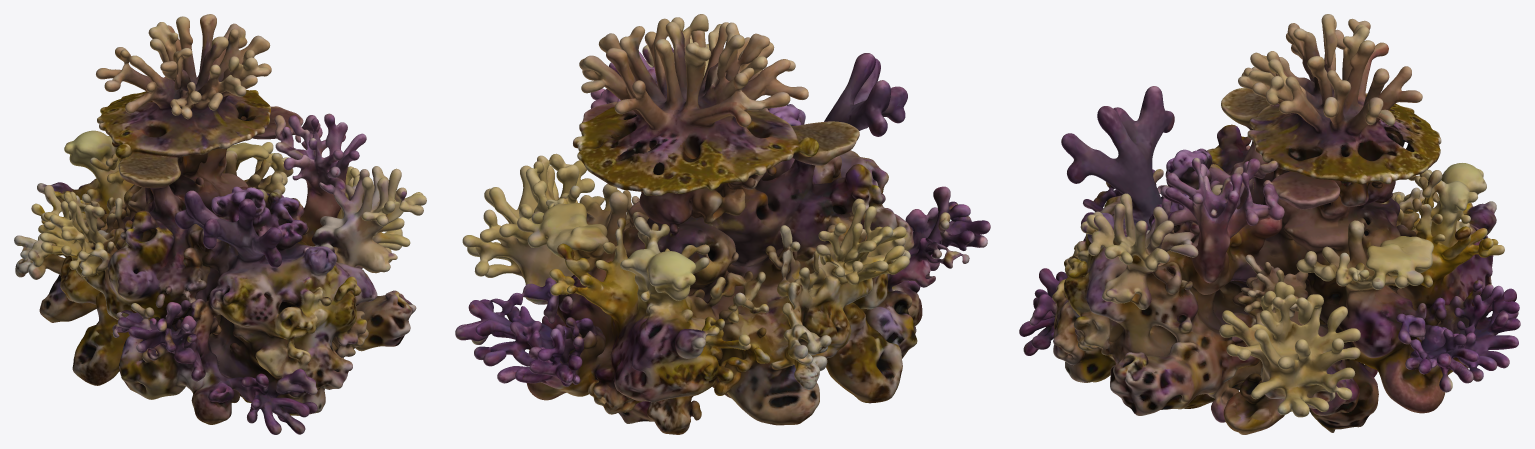
The model's file is reefmass_c.glb.
3 views of the same model, side by side, from view 1: azimuth 30°, elevation 25°; view 2: azimuth 150°, elevation 25°; view 3: azimuth 270°, elevation 25° (orthographic). The views are drawn at different scales.
Parts seen in each view (by area): view 1: tripo_node_705ec478-6d67-4635-8ecd-a9367209145a; view 2: tripo_node_705ec478-6d67-4635-8ecd-a9367209145a; view 3: tripo_node_705ec478-6d67-4635-8ecd-a9367209145a.
Part boxes in pixels (x1,y1,x2,y2): tripo_node_705ec478-6d67-4635-8ecd-a9367209145a: (14, 14, 426, 434); tripo_node_705ec478-6d67-4635-8ecd-a9367209145a: (455, 14, 990, 434); tripo_node_705ec478-6d67-4635-8ecd-a9367209145a: (1019, 14, 1520, 434).
Size of the model in its own units: 0.9341 by 0.8261 by 0.9999.
Materials: 1 (1 with a texture image).
